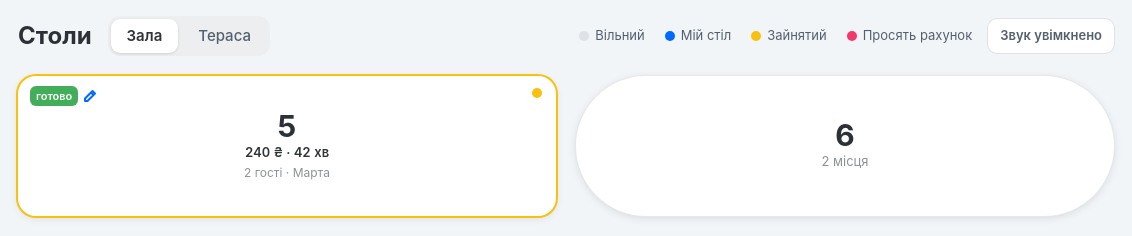
Scenario: HallMapPage › switches halls without re-reading the room
Expected: the button with test id "table-tile-11" is shown, [18, 76, 556, 216]
Click the button with test id "hall-tab-2" at (225, 36), box [182, 19, 267, 53]
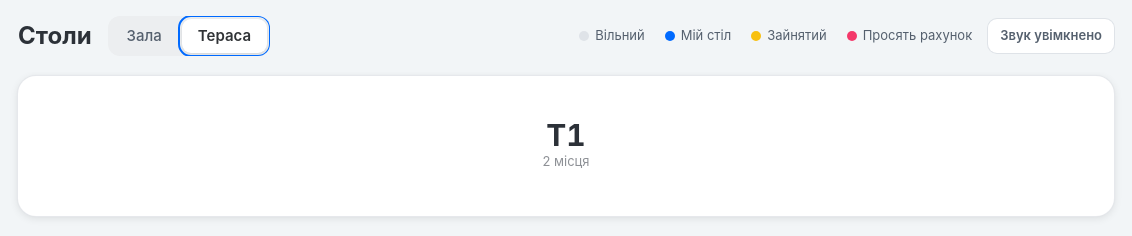
Expected: the button with test id "table-tile-21" is shown, [18, 76, 1114, 216]
Expected: the button with test id "table-tile-11" is gone
